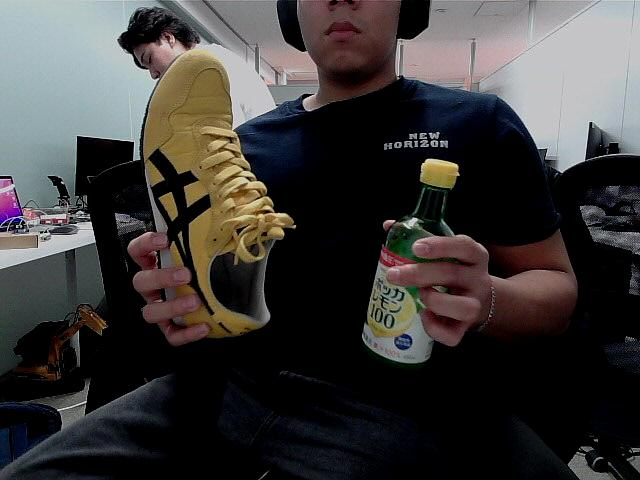Lemon_sapporo: (365, 157, 469, 372)
Shoes: (142, 44, 286, 343)
